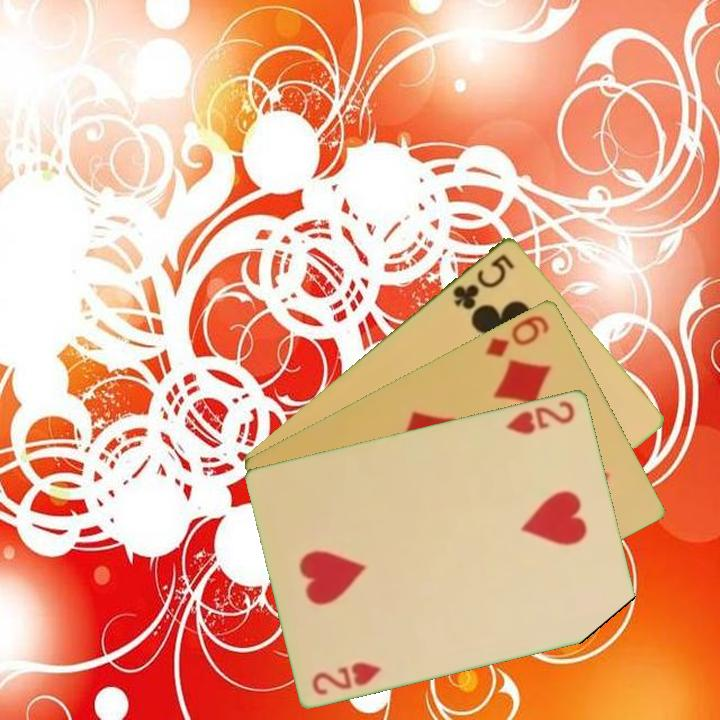2h: (502, 396, 578, 437), (308, 658, 384, 698)
5c: (449, 249, 517, 313)
6d: (481, 311, 553, 360)
